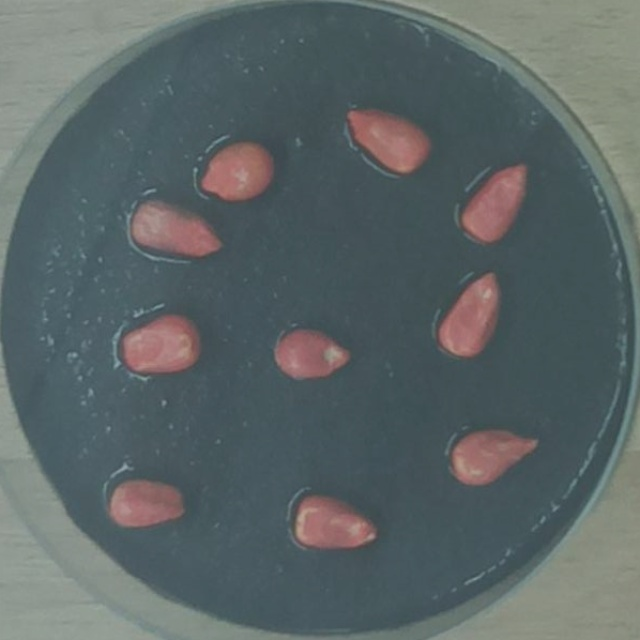Zea mays: (340, 102, 438, 181), (432, 264, 509, 364), (455, 154, 536, 249), (127, 193, 230, 266), (442, 419, 545, 491), (117, 303, 210, 381), (287, 488, 387, 555), (195, 133, 280, 206), (102, 470, 192, 534), (271, 321, 358, 384)
